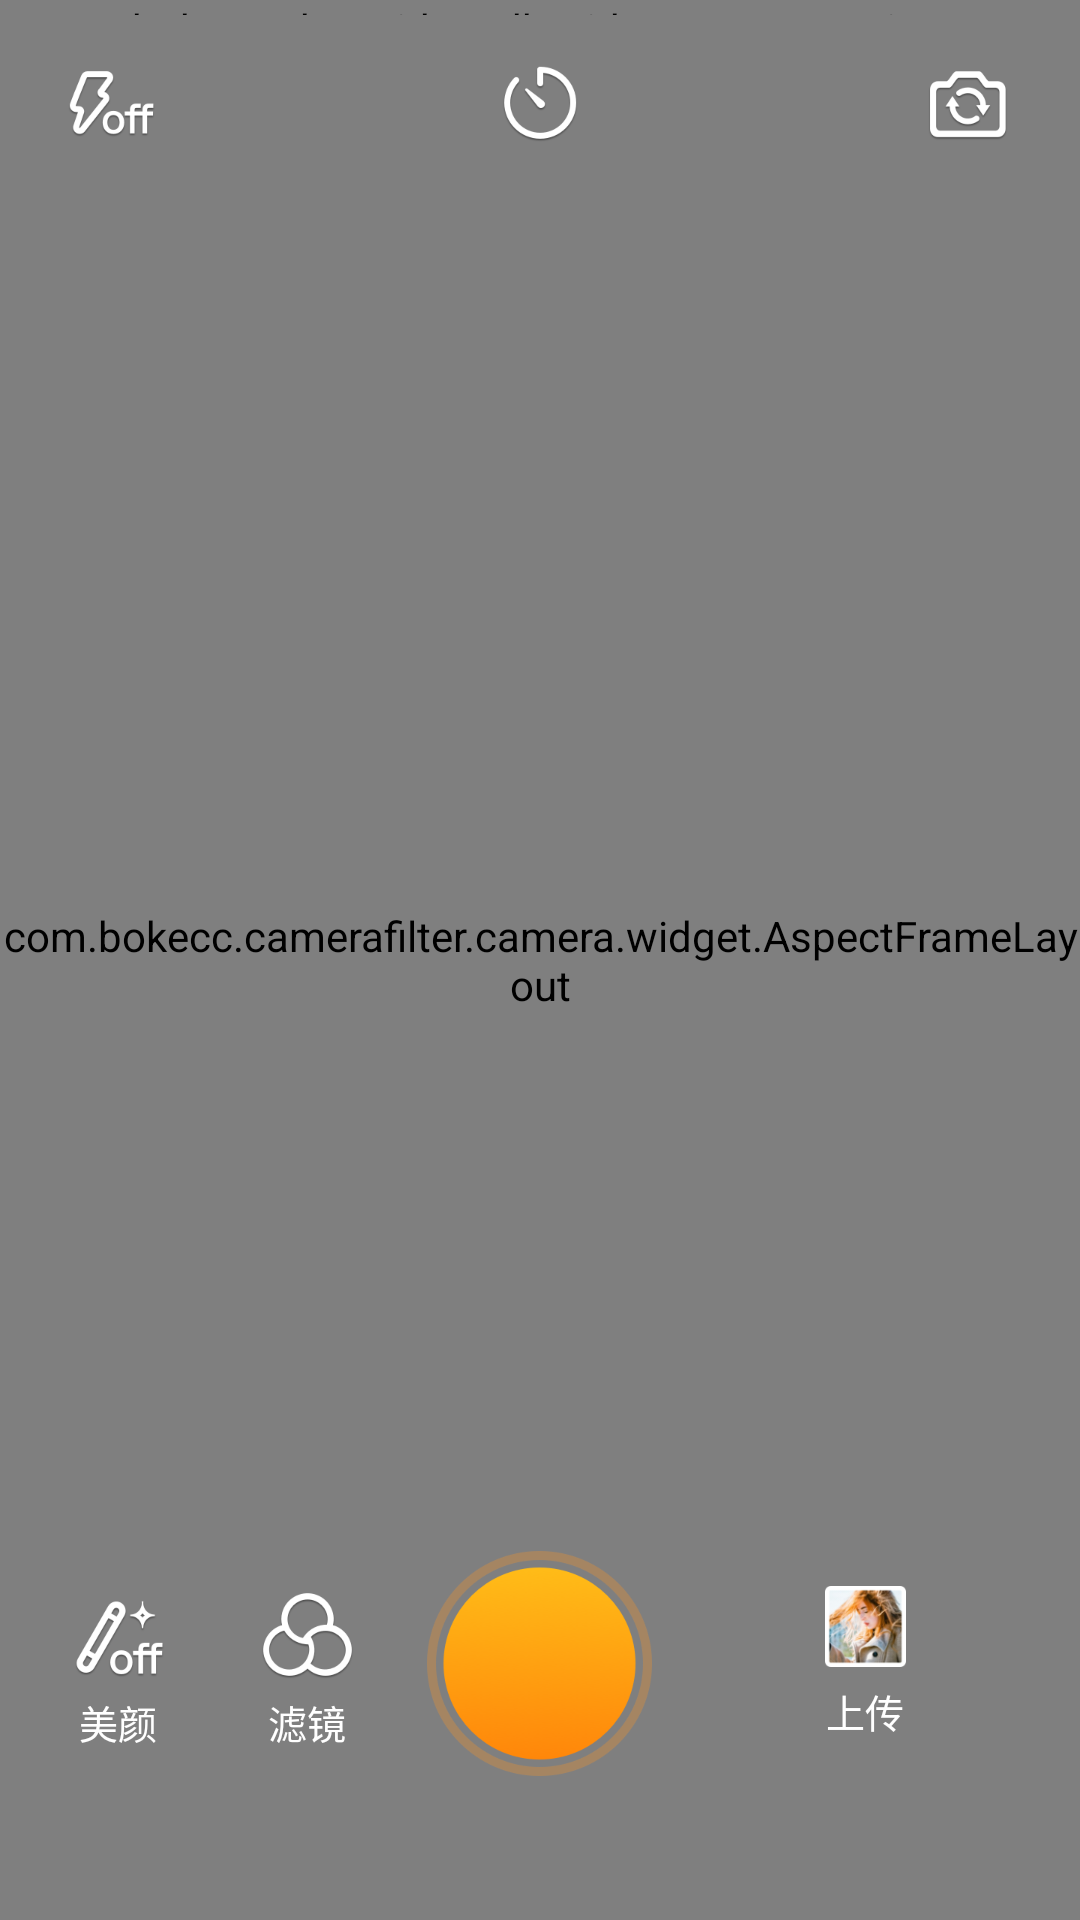

Named icons in this screenshot (1080w x 1920h) and their centers, (x=x, y=y):
countdown off: (x=540, y=103)
flash off: (x=112, y=103)
record video: (x=539, y=1663)
select video: (x=865, y=1626)
switch camera: (x=968, y=105)
